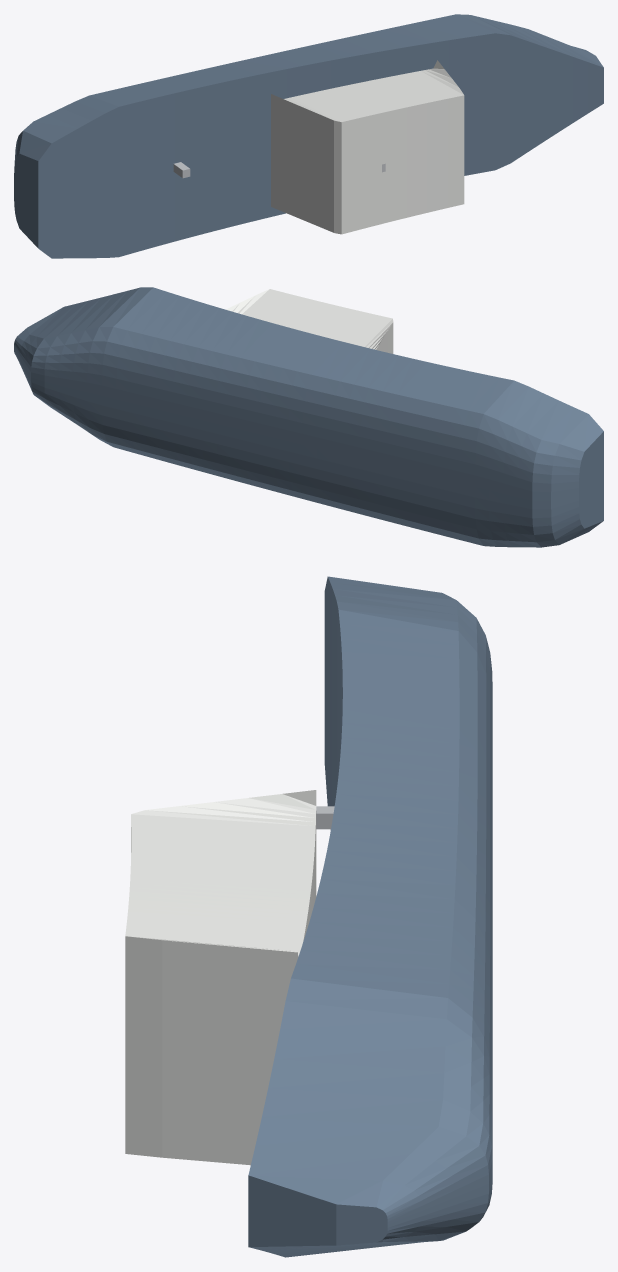
Rendered from loft-tug-sheered.glb.
The picture shows the model from 3 angles, top to bottom: view 1: azimuth 30°, elevation 25°; view 2: azimuth 150°, elevation 25°; view 3: azimuth 270°, elevation 25°; orthographic projection. The views are drawn at different scales.
Visible parts, largest first — view 1: loft-tug-sheered; view 2: loft-tug-sheered; view 3: loft-tug-sheered.
Boxes of the visible parts, x1,y1,x2,y2 form: loft-tug-sheered: (14, 14, 603, 258); loft-tug-sheered: (14, 287, 603, 547); loft-tug-sheered: (125, 576, 492, 1257).
Size of the model in its own units: 1.8 by 0.4617 by 0.5111.
